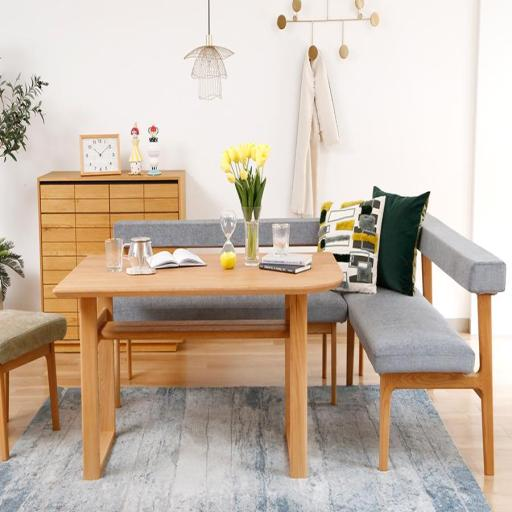table: (51, 243, 343, 479)
